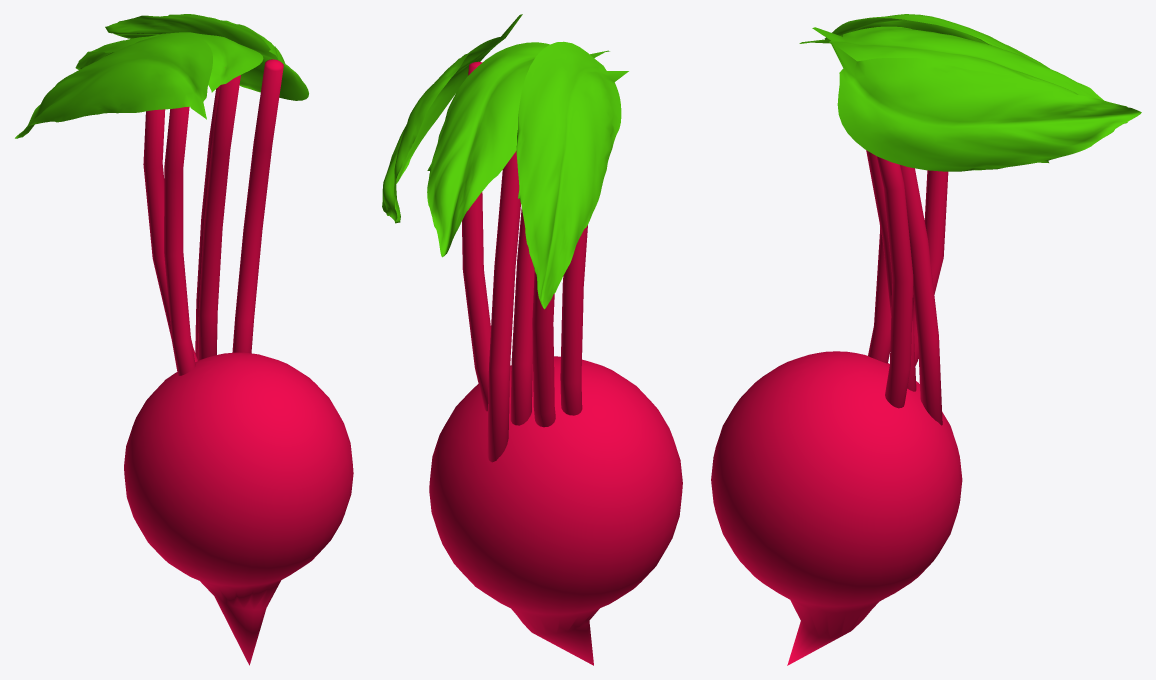
File: beet.fbx
3 views of the same model, side by side, from view 1: azimuth 30°, elevation 25°; view 2: azimuth 150°, elevation 25°; view 3: azimuth 270°, elevation 25° (orthographic). The views are drawn at different scales.
Parts seen in each view (by area): view 1: Basil_Leaf_1; view 2: Basil_Leaf_1; view 3: Basil_Leaf_1.
Boxes of the visible parts, left/top/right/bottom form: Basil_Leaf_1: left=15, top=14, right=353, bottom=665; Basil_Leaf_1: left=382, top=14, right=682, bottom=665; Basil_Leaf_1: left=711, top=14, right=1141, bottom=665.
Size of the model in its own units: 201 by 542 by 327.
